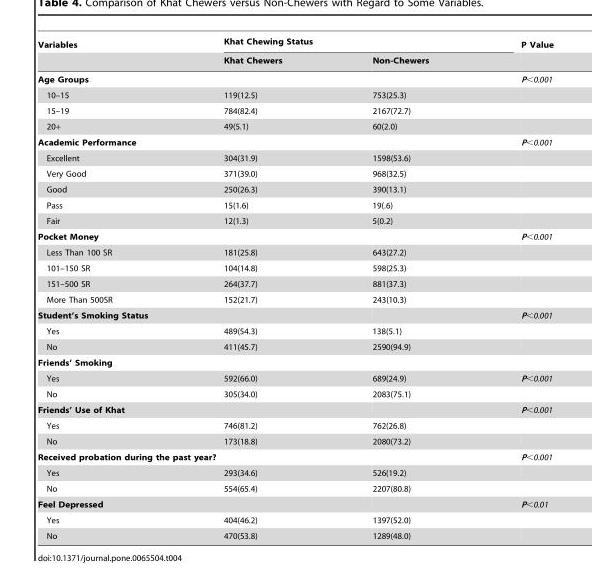table: (36, 36, 552, 540)
table column: (36, 36, 219, 540), (326, 36, 474, 540), (219, 36, 326, 540), (474, 36, 552, 540)
table column header: (36, 36, 552, 69)
table projected row header: (36, 354, 552, 370)
table row: (36, 69, 552, 87), (36, 52, 552, 69), (36, 117, 552, 134), (36, 36, 552, 52), (36, 134, 552, 150), (36, 165, 552, 181), (36, 181, 552, 197), (36, 212, 552, 228), (36, 228, 552, 244), (36, 244, 552, 260), (36, 275, 552, 291), (36, 291, 552, 307), (36, 307, 552, 323), (36, 338, 552, 354), (36, 354, 552, 370), (36, 370, 552, 386), (36, 401, 552, 417), (36, 417, 552, 433), (36, 433, 552, 449), (36, 464, 552, 480), (36, 480, 552, 496), (36, 496, 552, 512), (36, 87, 552, 102), (36, 102, 552, 117), (36, 150, 552, 165), (36, 197, 552, 212), (36, 260, 552, 275), (36, 323, 552, 338), (36, 386, 552, 401), (36, 449, 552, 464), (36, 512, 552, 527), (36, 527, 552, 540)
table spanning cell: (36, 36, 219, 69), (219, 36, 474, 52), (474, 36, 552, 69)
